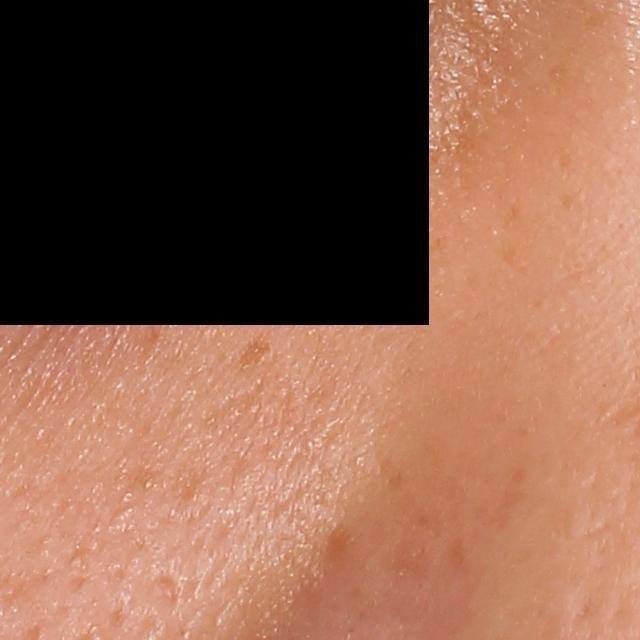melasma: (236, 334, 271, 369)
